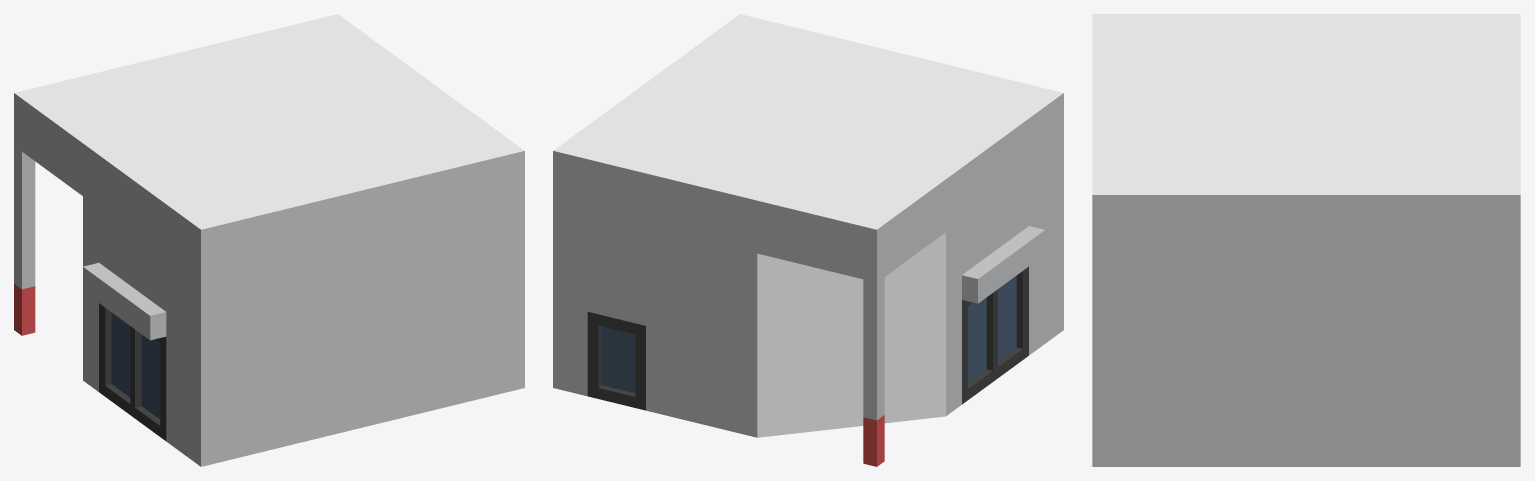
The model's file is pitsGarageCorner.obj.
3 renders of one model, left to right at view 1: azimuth 30°, elevation 25°; view 2: azimuth 150°, elevation 25°; view 3: azimuth 270°, elevation 25°, orthographic. The views are drawn at different scales.
Parts seen in each view (by area): view 1: pitsGarageCorner; view 2: pitsGarageCorner; view 3: pitsGarageCorner.
Part boxes in pixels (x1=…): pitsGarageCorner: x1=14, y1=14, x2=524, y2=466; pitsGarageCorner: x1=553, y1=14, x2=1063, y2=466; pitsGarageCorner: x1=1092, y1=14, x2=1520, y2=466.
Size of the model in its own units: 1.05 by 0.7 by 1.
